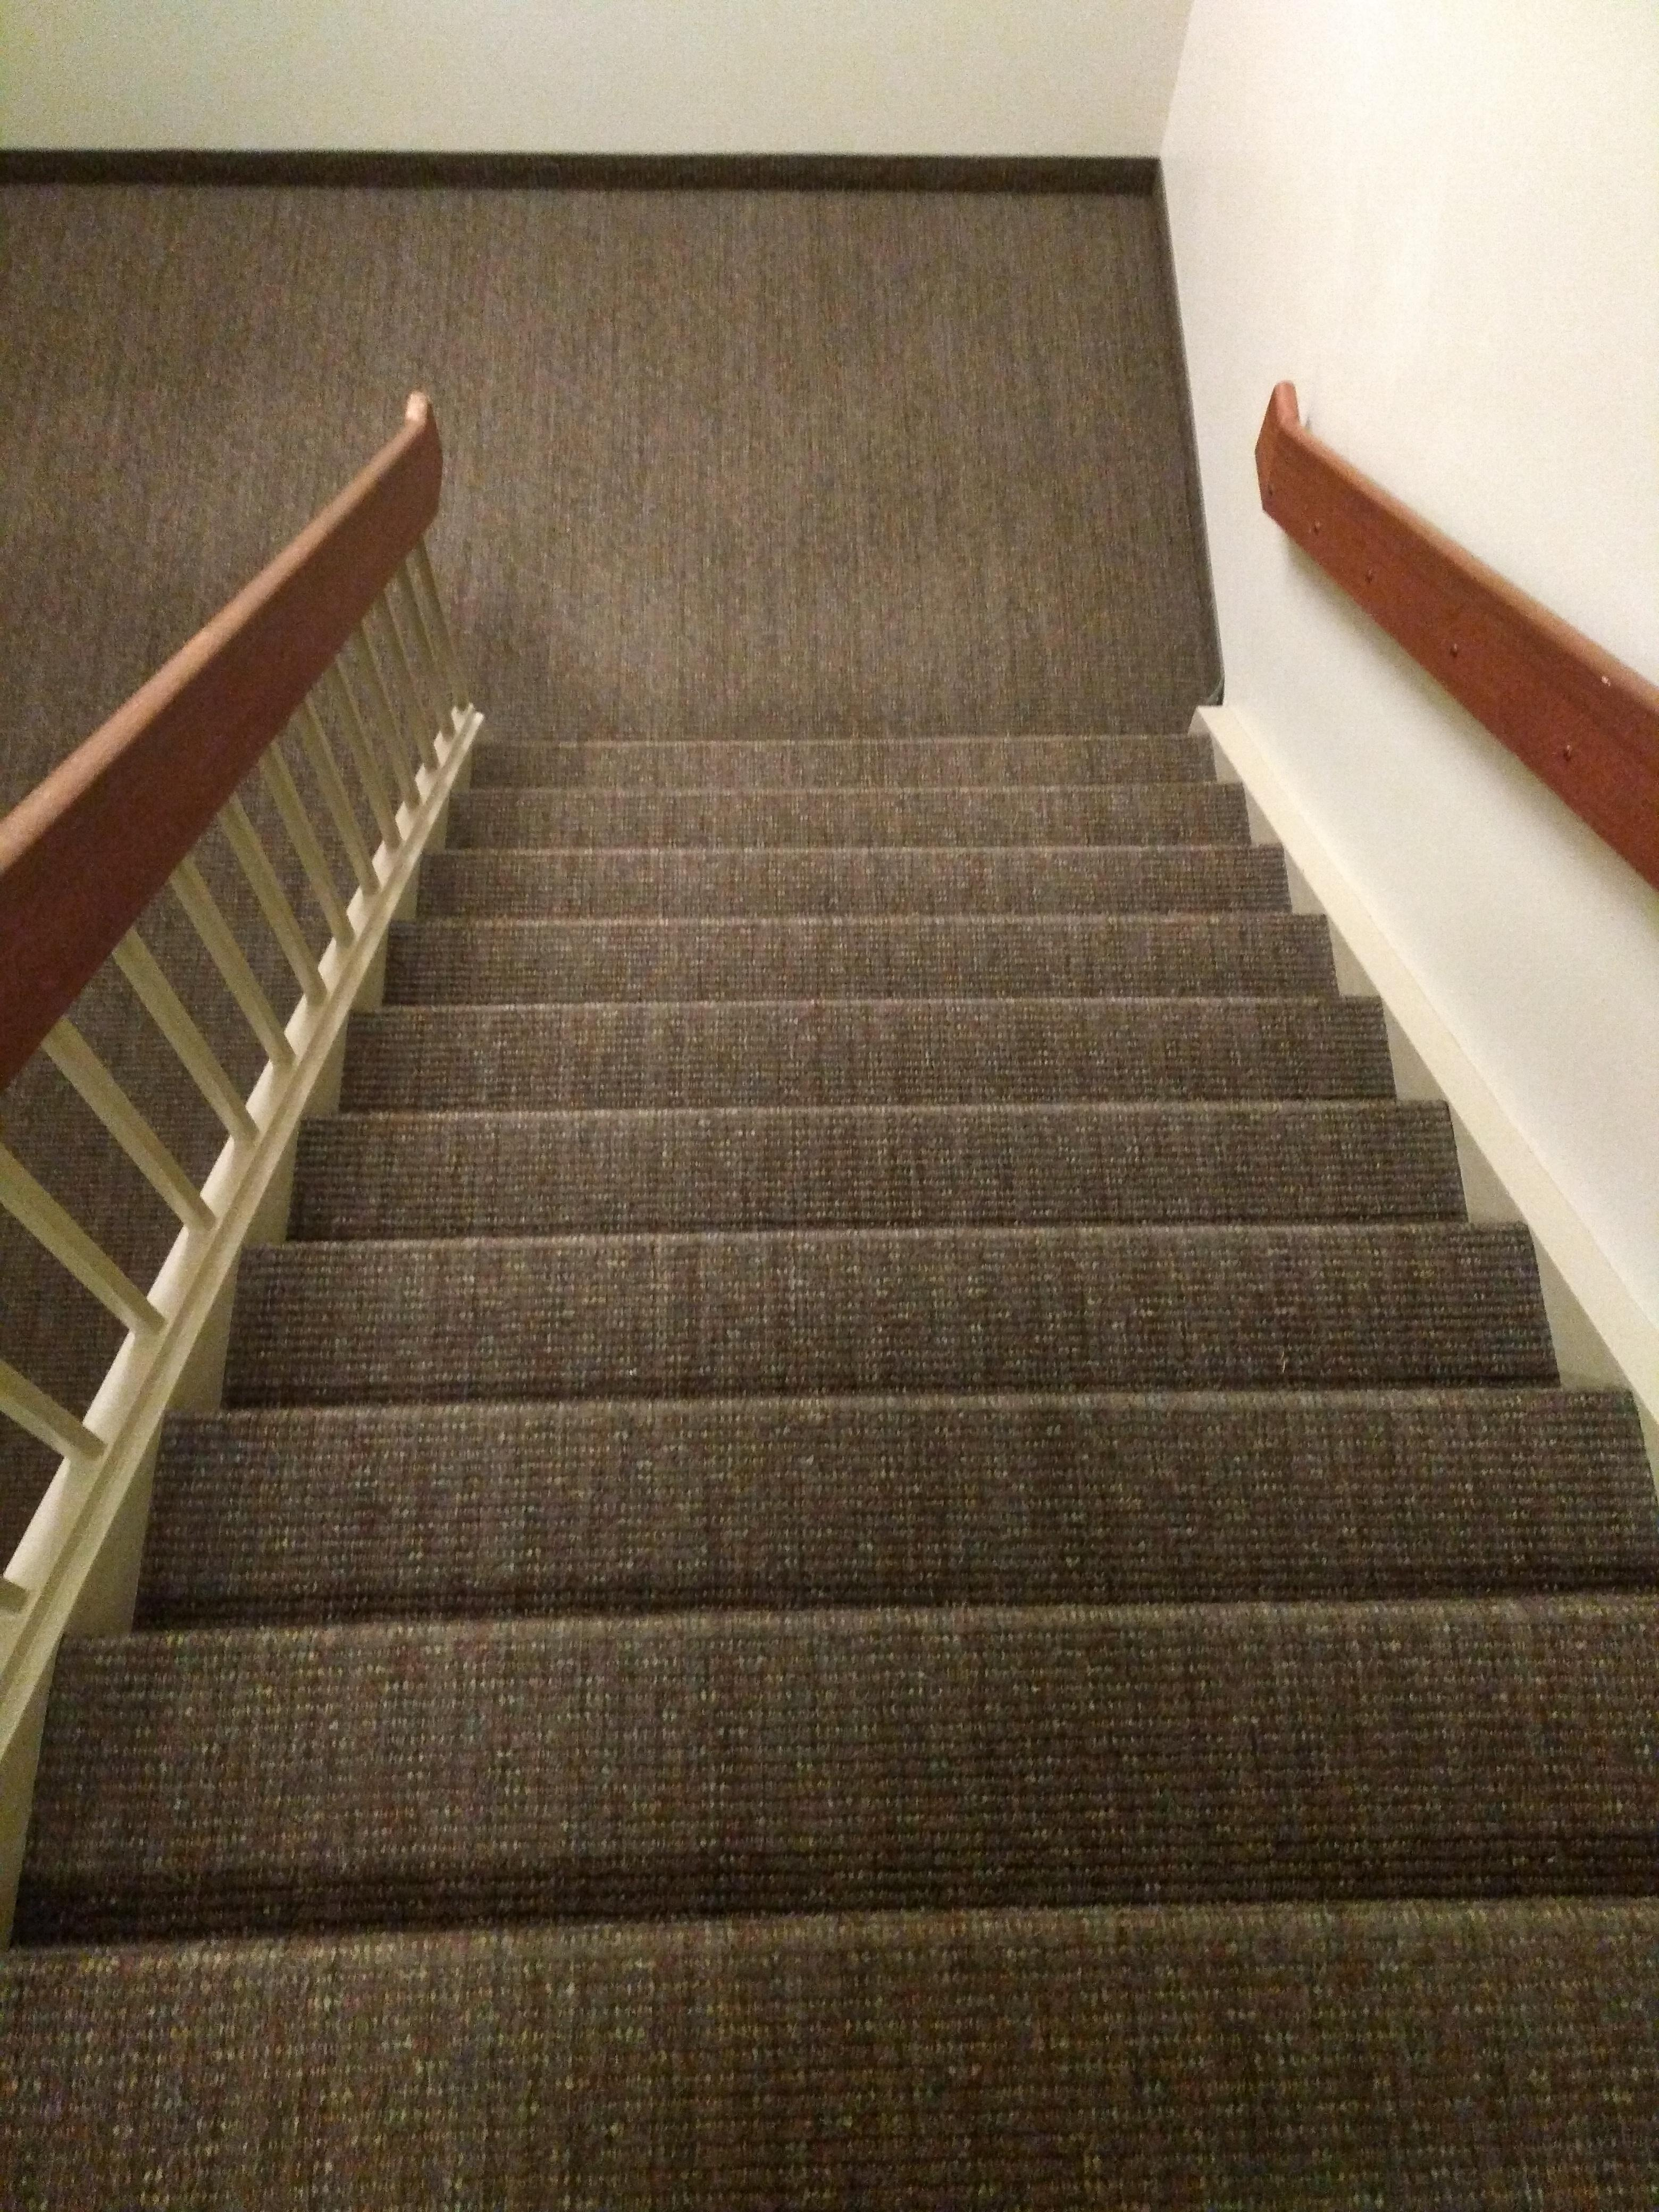stairs_down: (31, 716, 1659, 2067)
